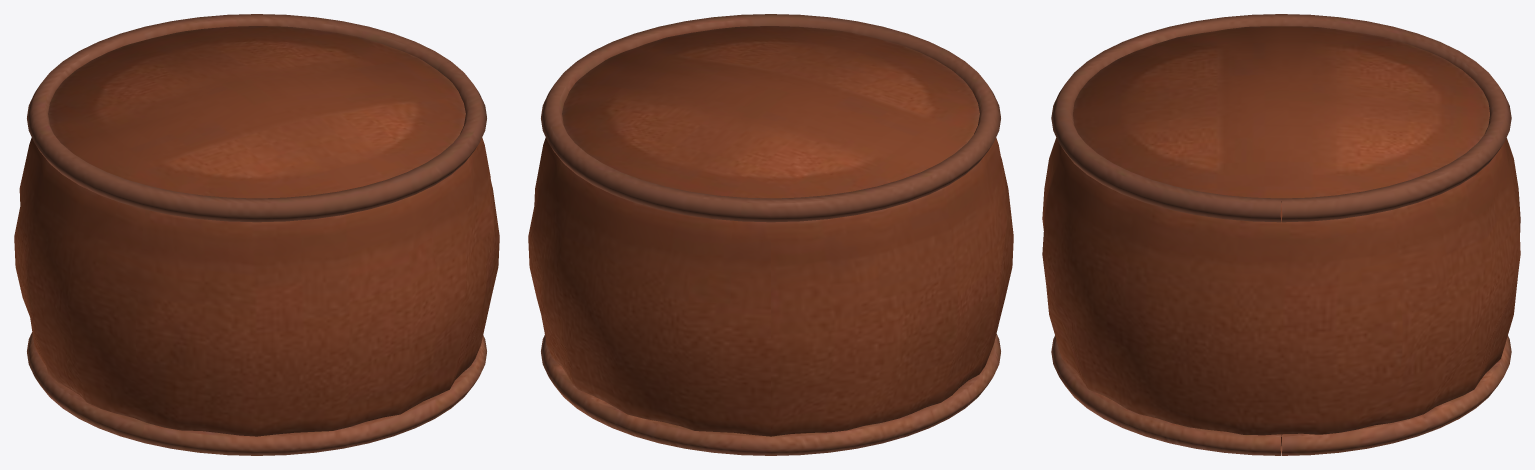
The model's file is pouf_rust.glb.
3 views of the same model, side by side, from view 1: azimuth 30°, elevation 25°; view 2: azimuth 150°, elevation 25°; view 3: azimuth 270°, elevation 25° (orthographic).
Visible parts, largest first — view 1: prop_pouf_rust_felt; view 2: prop_pouf_rust_felt; view 3: prop_pouf_rust_felt.
Part boxes in pixels (<box>): prop_pouf_rust_felt: <box>14,14,499,455</box>; prop_pouf_rust_felt: <box>528,14,1013,455</box>; prop_pouf_rust_felt: <box>1042,14,1520,455</box>.
Bounding box in the file's own units: 1.28 × 0.7877 × 1.28.
1 material, 1 textured.
